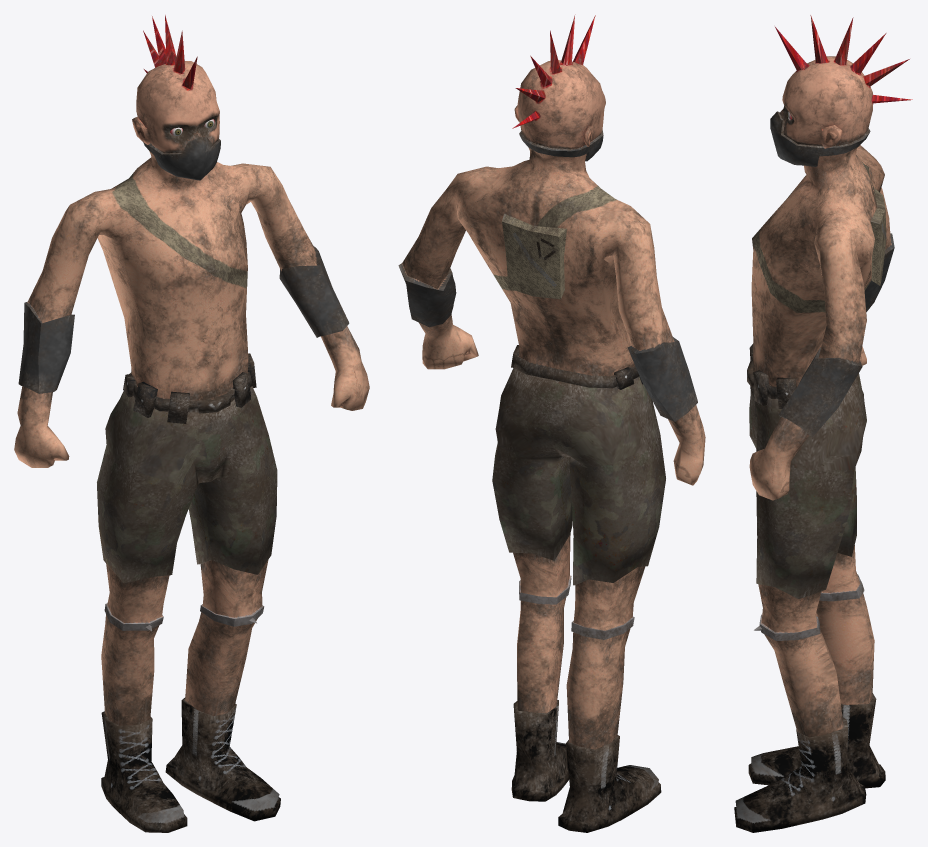
Rendered from Anim_disparar_pistola_npc2.0015.obj.
3 views of the same model, side by side, from view 1: azimuth 30°, elevation 25°; view 2: azimuth 150°, elevation 25°; view 3: azimuth 270°, elevation 25° (orthographic).
Visible parts, largest first — view 1: polySurface1; view 2: polySurface1; view 3: polySurface1.
Boxes of the visible parts, x1,y1,x2,y2 form: polySurface1: [14, 15, 369, 832]; polySurface1: [398, 14, 705, 832]; polySurface1: [734, 15, 912, 832].
Bounding box in the file's own units: 4.33 × 10.17 × 2.11.
